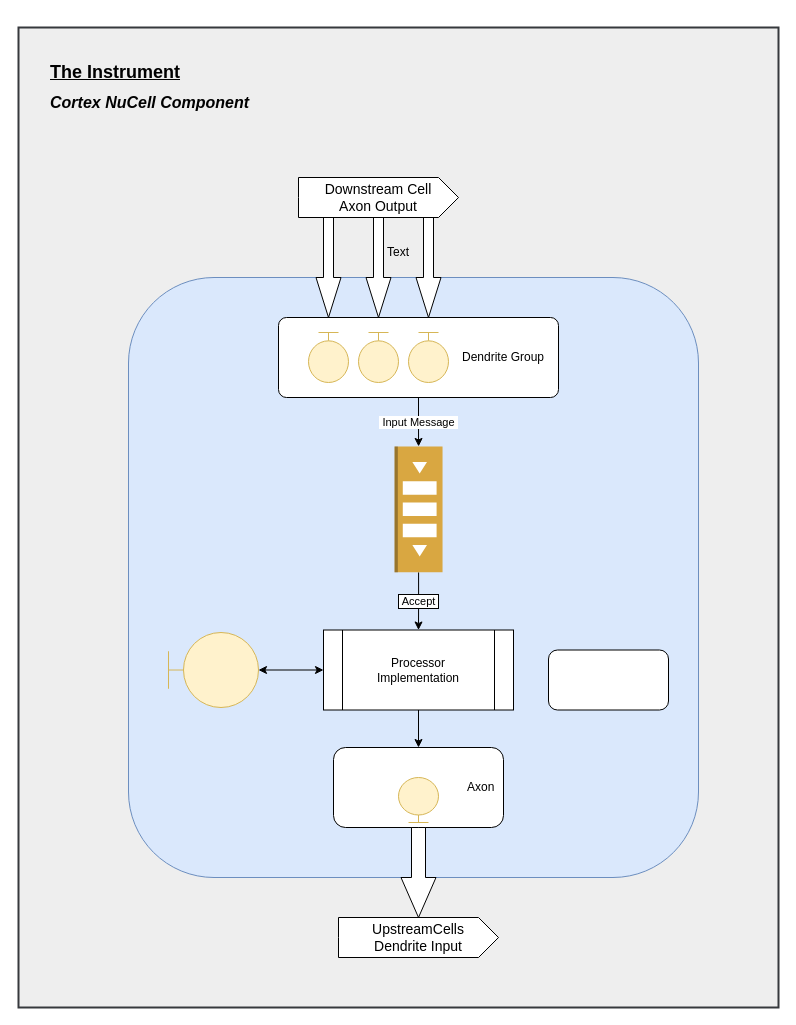
Some shapes in this 796 by 1025 pixel diagram are drawn without their labels. The centre of each missing label's shape, as x and y in pixels:
"CellType" goes at [608,679].
"WorkSpace Model" goes at [213,670].
